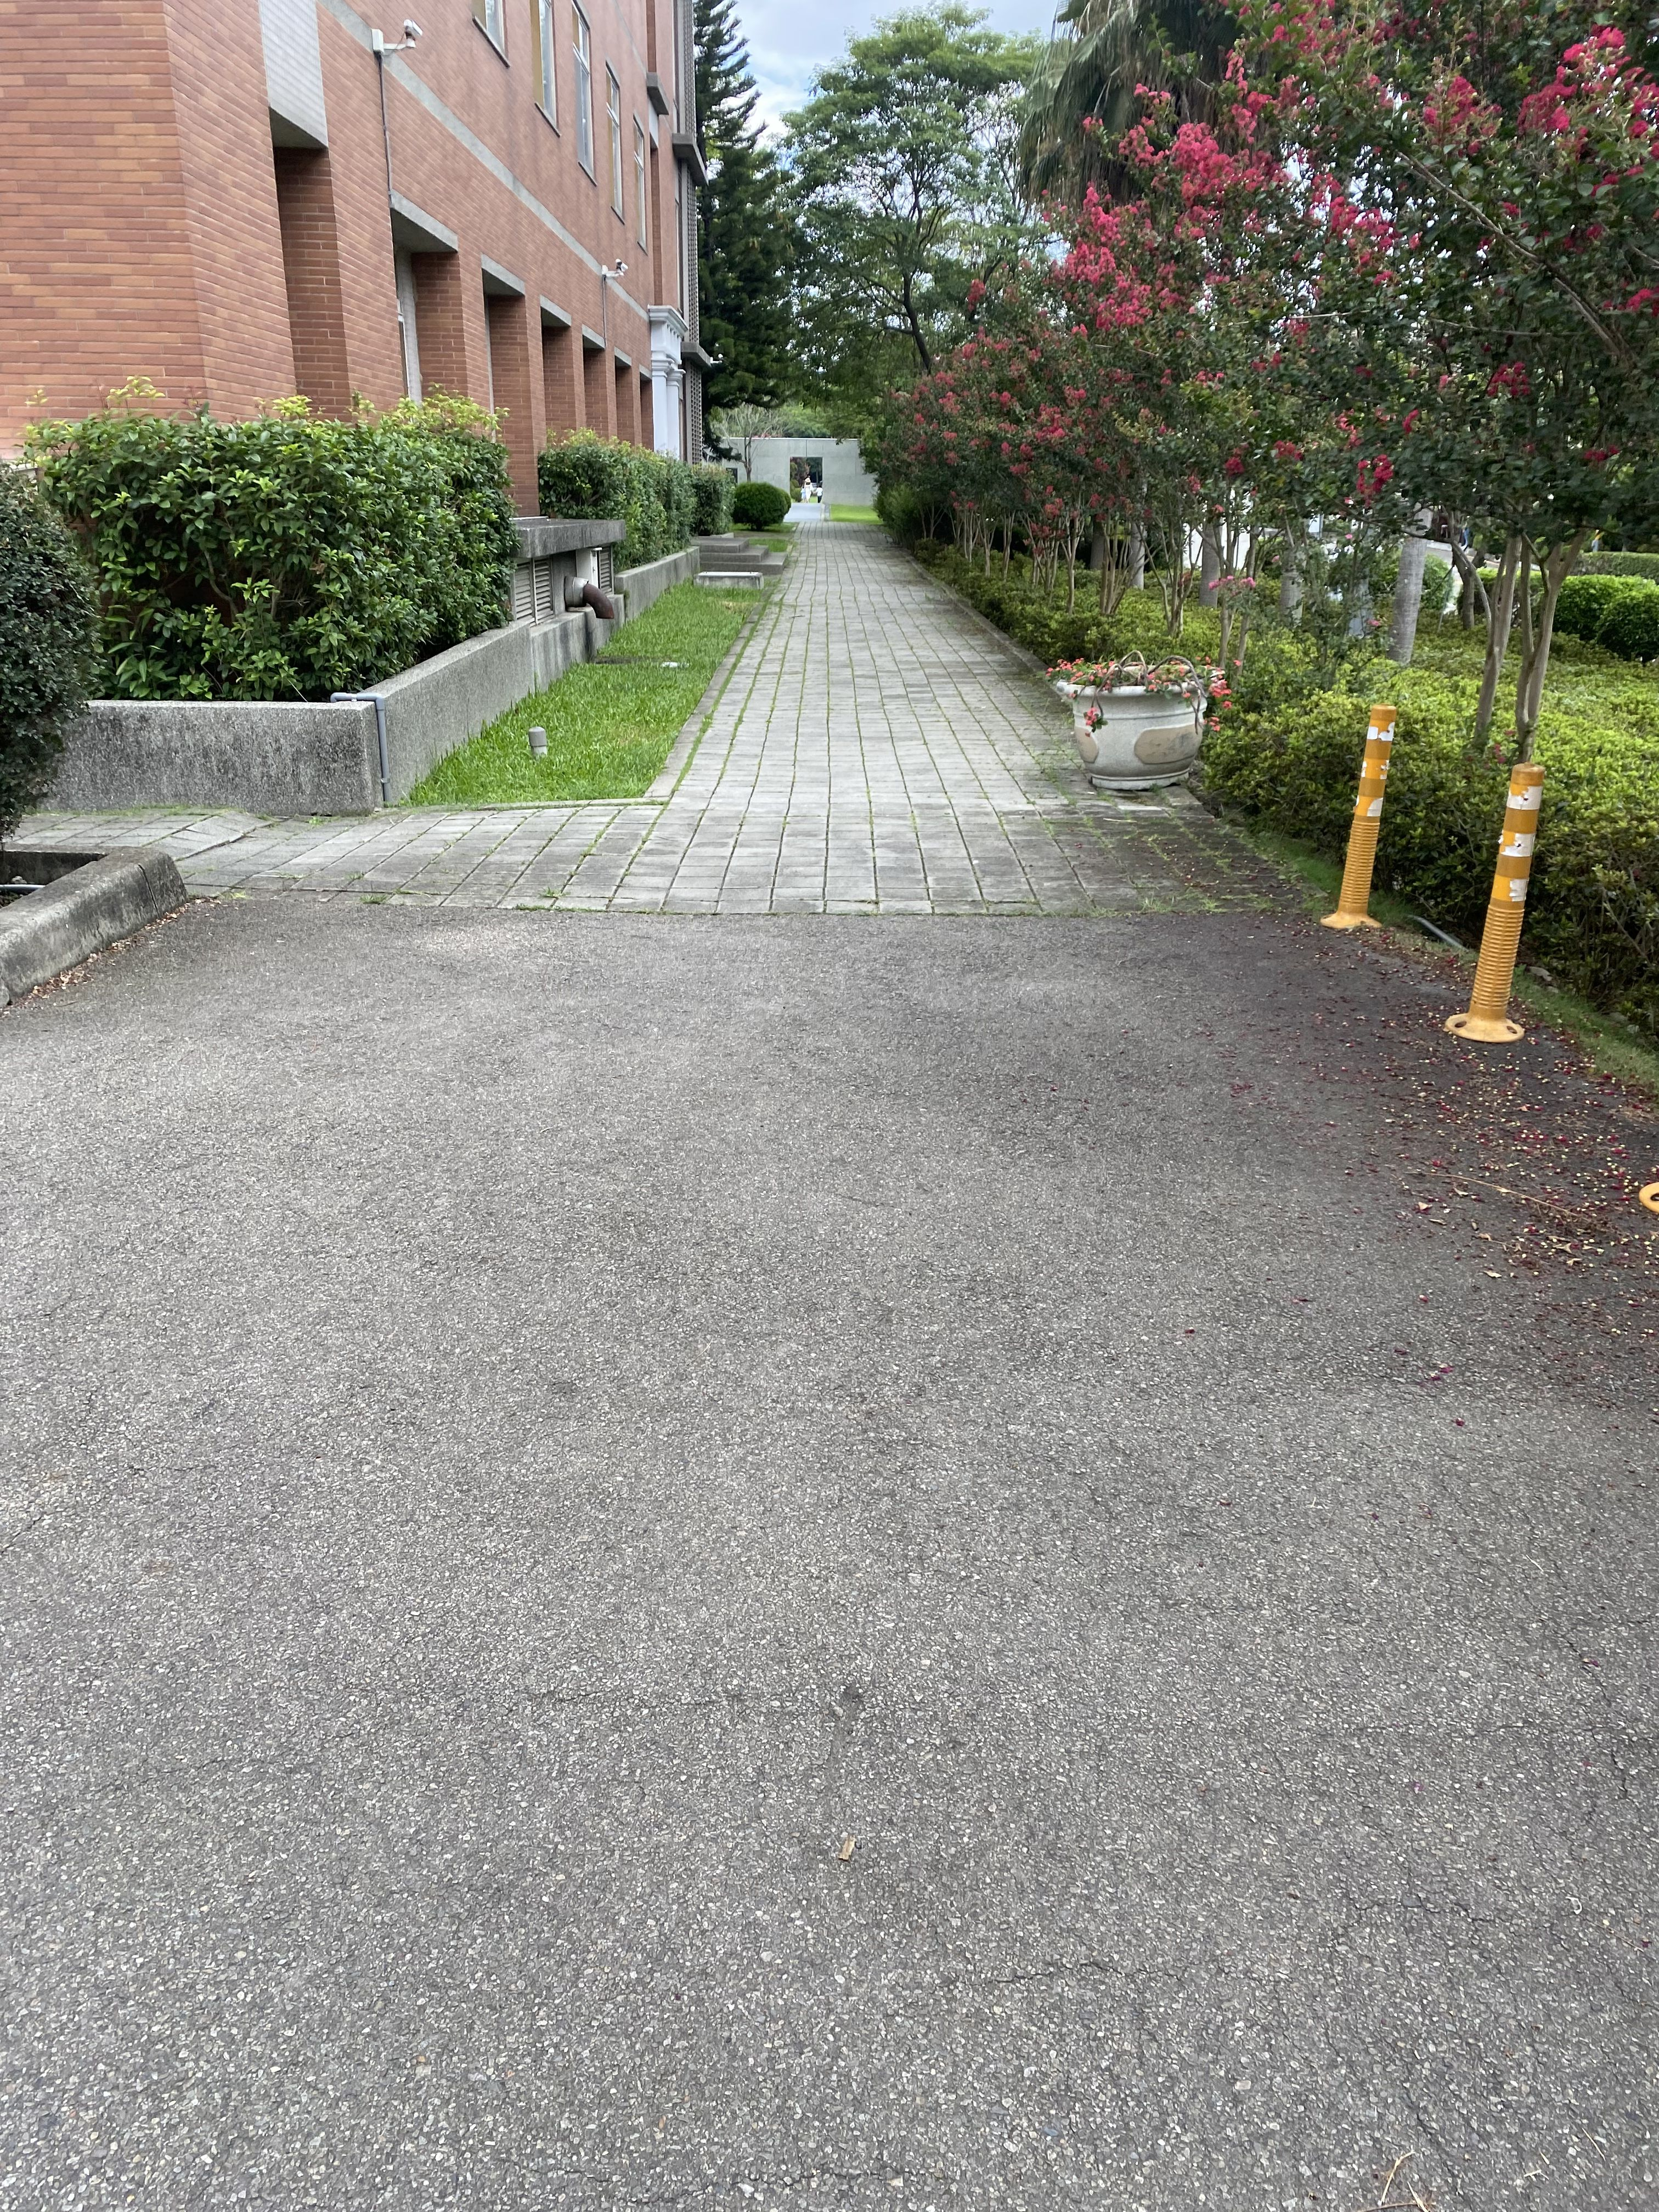0: (542, 907, 1659, 2212)
sidewalk: (687, 503, 1126, 1040)
